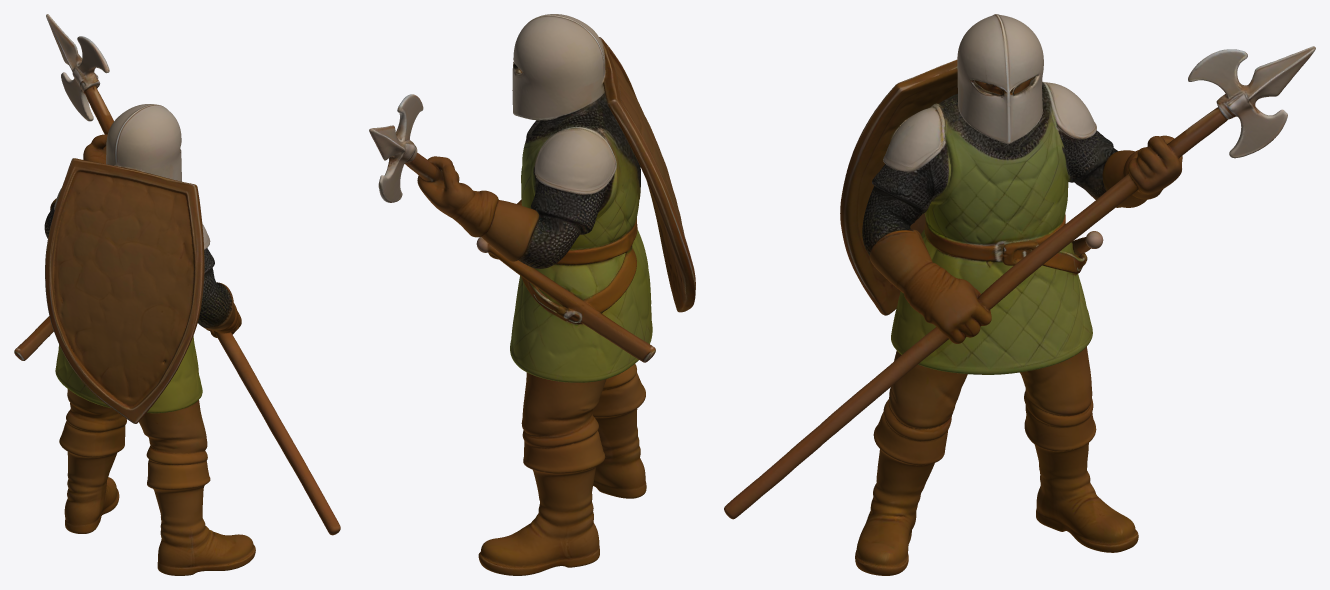
3 renders of one model, left to right at view 1: azimuth 30°, elevation 25°; view 2: azimuth 150°, elevation 25°; view 3: azimuth 270°, elevation 25°, orthographic. The views are drawn at different scales.
Visible parts, largest first — view 1: tripo_node_200734dd-b35d-4293-9e9c-8f236cb1e3d8; view 2: tripo_node_200734dd-b35d-4293-9e9c-8f236cb1e3d8; view 3: tripo_node_200734dd-b35d-4293-9e9c-8f236cb1e3d8.
Boxes of the visible parts, x1,y1,x2,y2 form: tripo_node_200734dd-b35d-4293-9e9c-8f236cb1e3d8: (14, 14, 340, 575); tripo_node_200734dd-b35d-4293-9e9c-8f236cb1e3d8: (369, 14, 695, 575); tripo_node_200734dd-b35d-4293-9e9c-8f236cb1e3d8: (724, 14, 1315, 575).
Size of the model in its own units: 0.4578 by 0.9823 by 1.
1 material, 1 textured.
